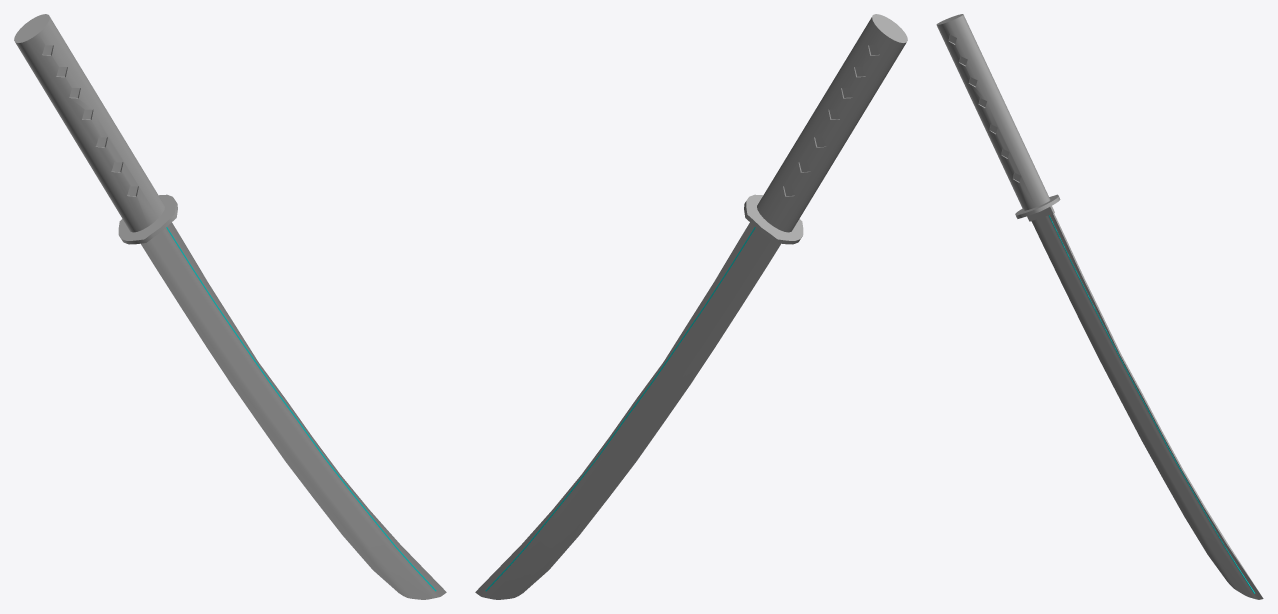
The model's file is sexygustav.fbx.
3 renders of one model, left to right at view 1: azimuth 30°, elevation 25°; view 2: azimuth 150°, elevation 25°; view 3: azimuth 330°, elevation 25°, orthographic. The views are drawn at different scales.
Parts seen in each view (by area): view 1: pCube1, pCylinder18, pCylinder2, pCube19; view 2: pCube1, pCylinder18, pCylinder2, pCube19; view 3: pCube1, pCylinder18, pCube19.
Boxes of the visible parts, x1,y1,x2,y2 form: pCube1: (141,222,446,599); pCylinder18: (14,14,164,232); pCylinder2: (118,194,177,244); pCube19: (166,227,436,591); pCube1: (475,222,780,599); pCylinder18: (757,14,907,232); pCylinder2: (744,194,803,244); pCube19: (485,227,755,591); pCube1: (1031,213,1263,599); pCylinder18: (936,14,1050,210); pCube19: (1048,215,1254,593).
Size of the model in its own units: 28.76 by 43.15 by 3.08.
